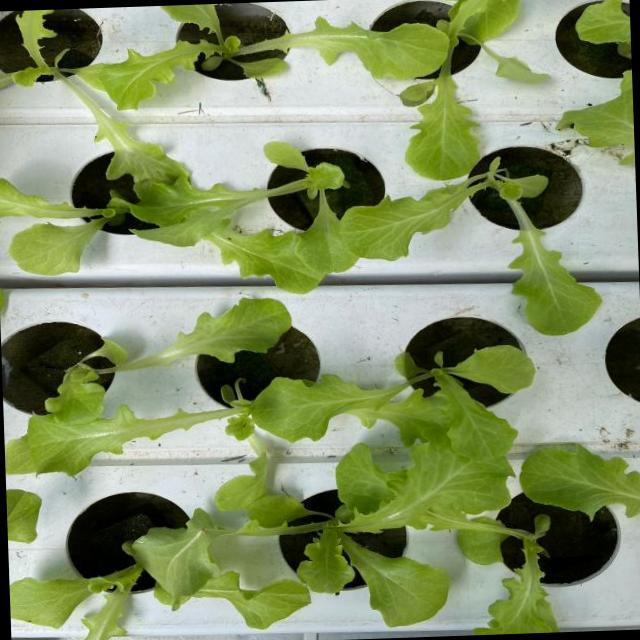Lettuce-Not-Ready-to-Harvest: (340, 169, 601, 335), (284, 443, 512, 625), (78, 4, 449, 108), (248, 346, 534, 460), (0, 10, 185, 183), (45, 298, 289, 423), (117, 143, 355, 271), (4, 366, 254, 474), (400, 0, 548, 178), (128, 509, 310, 628), (458, 515, 559, 634), (0, 178, 114, 275), (9, 564, 141, 640), (521, 445, 640, 516)
